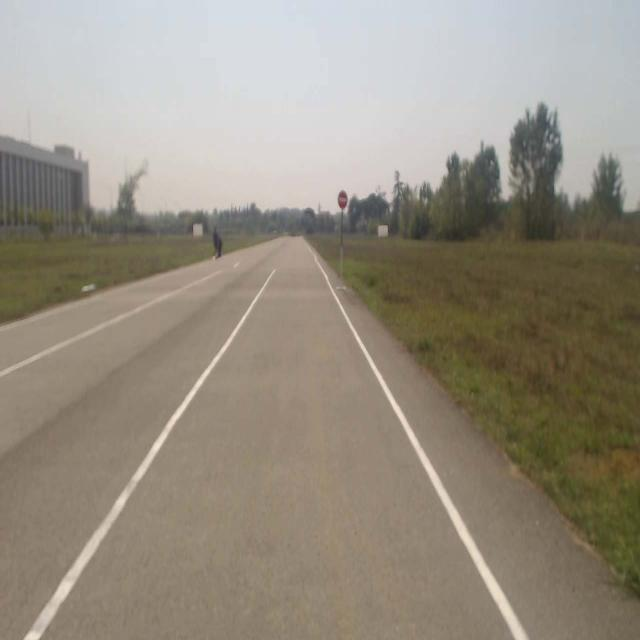girisyok: (338, 190, 348, 209)
